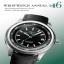watch: (6, 16, 59, 58)
